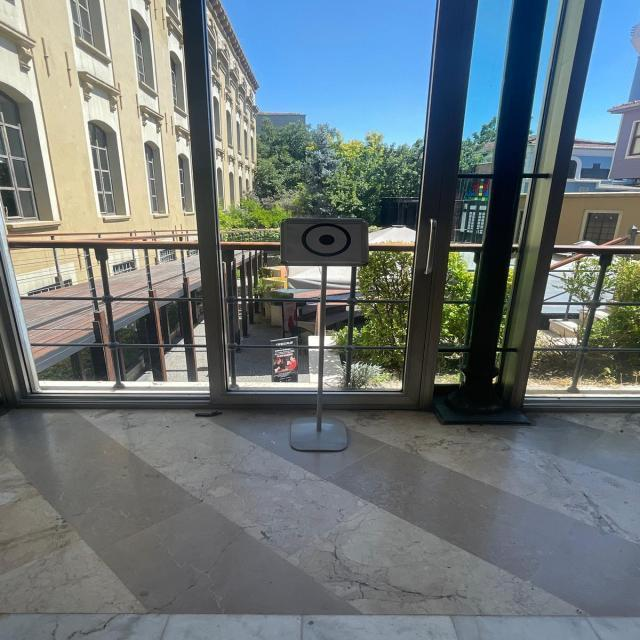Target: (276, 201, 374, 278)
inner: (310, 229, 343, 251)
